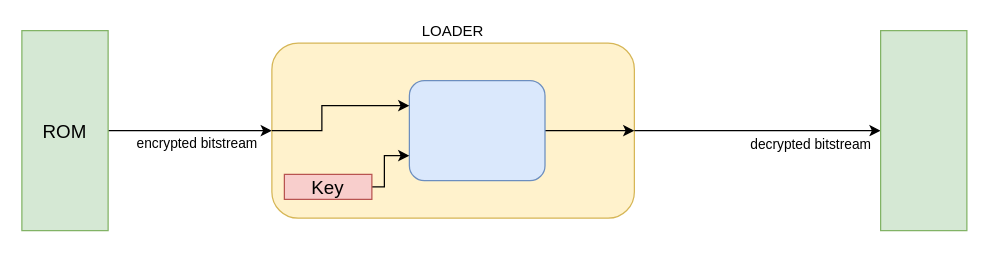
Image size: 989x253. Some labels were removed from this diagram. The box of each missing label's shape, as (x1, y1, x2, y2) in pixels:
Decrypt: (408, 79, 545, 181)
RAM: (879, 29, 967, 231)
